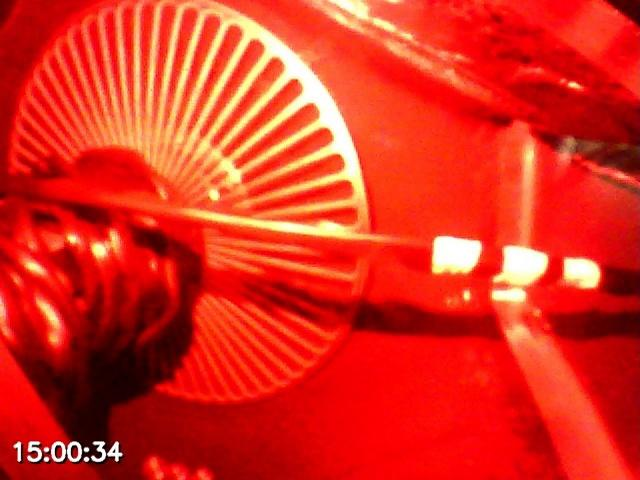white-dots: (433, 235, 601, 292)
